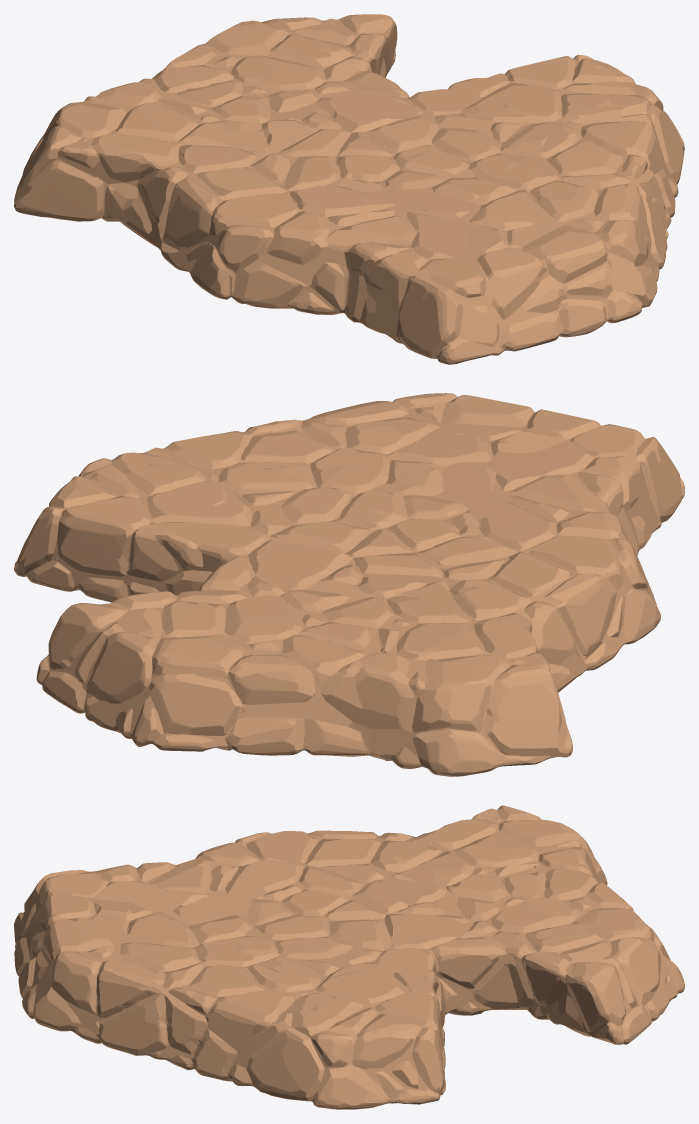
3 views of the same model, one above another, from view 1: azimuth 30°, elevation 25°; view 2: azimuth 150°, elevation 25°; view 3: azimuth 270°, elevation 25° (orthographic). The views are drawn at different scales.
Parts seen in each view (by area): view 1: Mesh_75_LOD0; view 2: Mesh_75_LOD0; view 3: Mesh_75_LOD0.
Part boxes in pixels (x1,y1,x2,y2): Mesh_75_LOD0: [14, 14, 684, 364]; Mesh_75_LOD0: [14, 393, 684, 776]; Mesh_75_LOD0: [14, 805, 684, 1109].
Size of what is drawn, in the model's own units: 9395 by 1194 by 10345.
